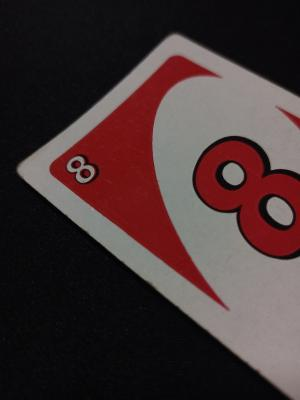num_8: (62, 147, 101, 197)
